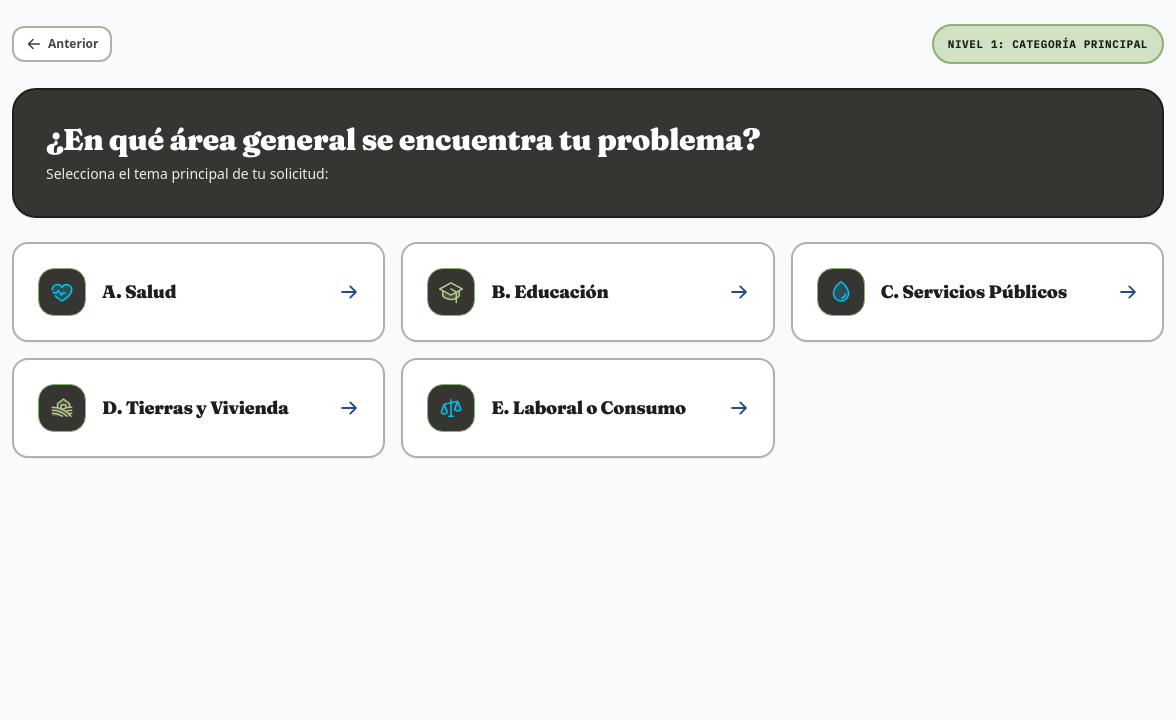
Test: WizardForm Feature & Acceptance Criteria (R4) › TC-T2-F19-03: supports "Otra" option handoff to Human Legal Advisor
Step 1. Click the button "D. Tierras y Vivienda" → coordinates (199, 408), box x1=12 y1=358 x2=385 y2=458
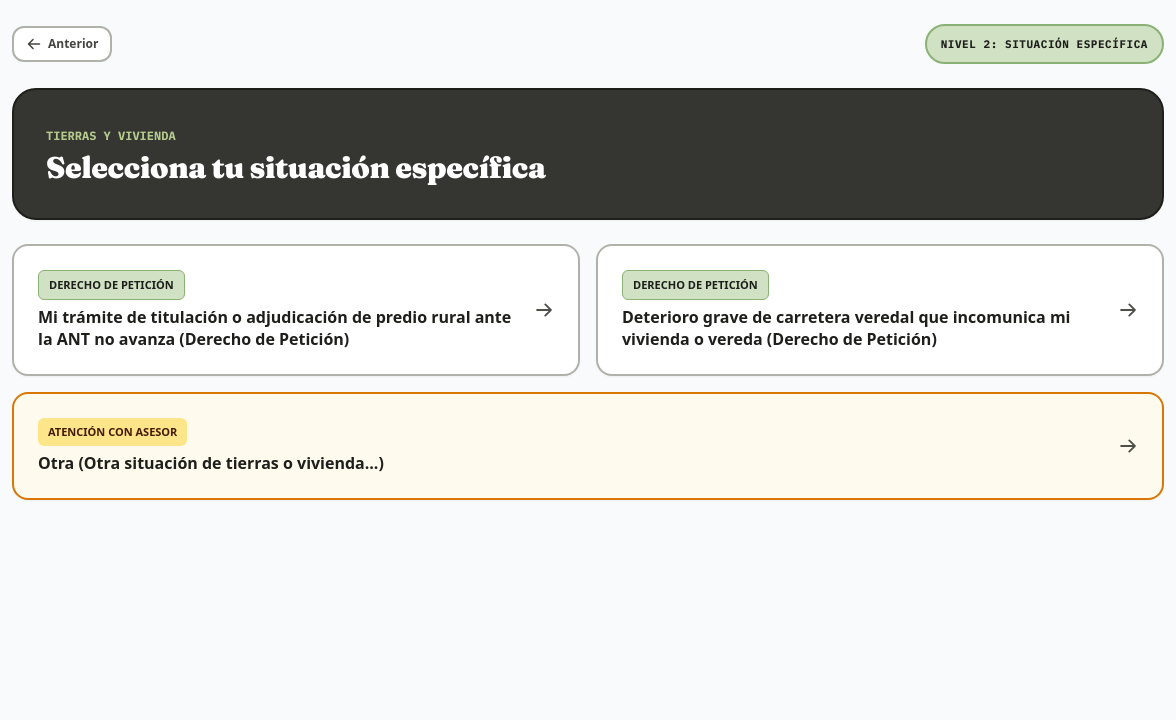
Step 2. Click the button "Otra situación de tierras" → coordinates (113, 432), box x1=12 y1=392 x2=1164 y2=500
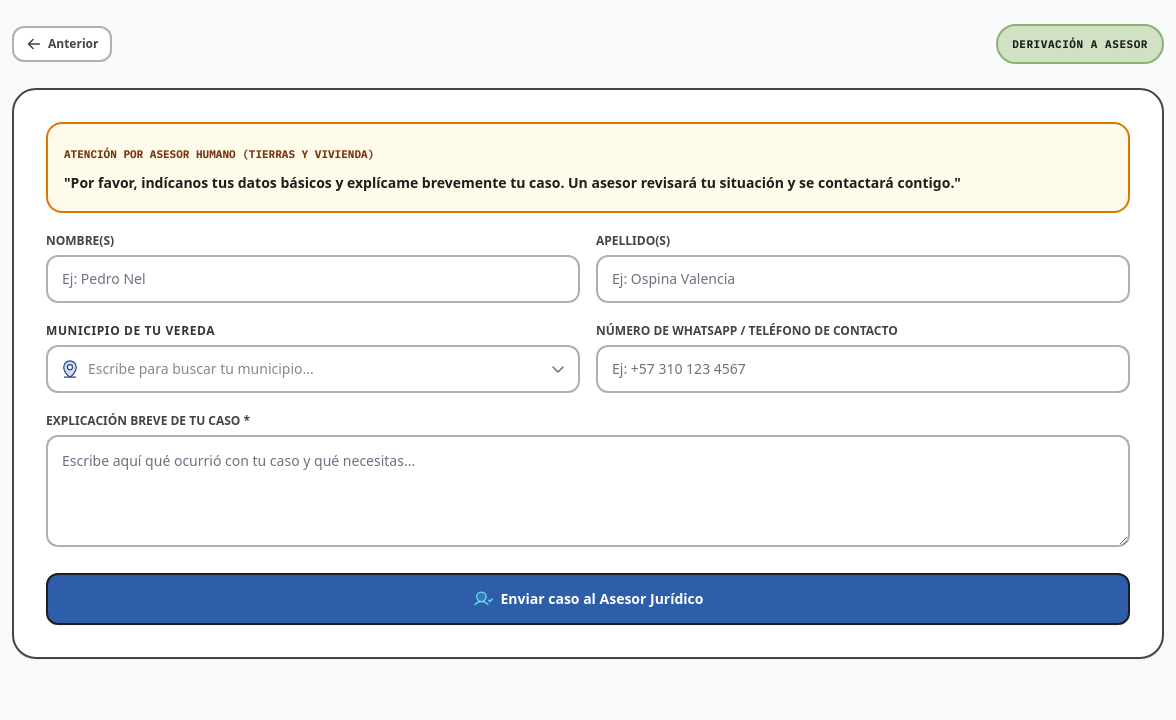
Result: the text "Derivación a Asesor" is shown at x1=996 y1=24 x2=1164 y2=64
Step 3. Type "Pedro" into the field labelled "Nombre(s)" → coordinates (313, 279), box x1=46 y1=255 x2=580 y2=303
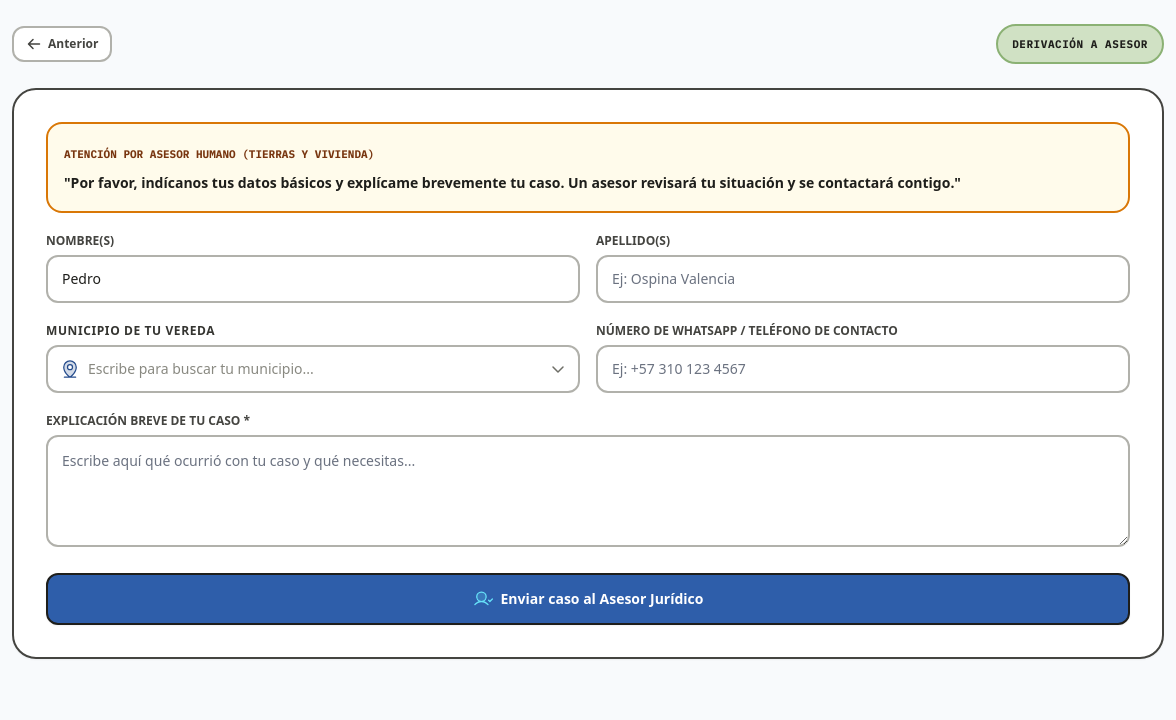
Step 4. Type "Nel Ospina" into the field labelled "Apellido(s)" → coordinates (863, 279), box x1=596 y1=255 x2=1130 y2=303
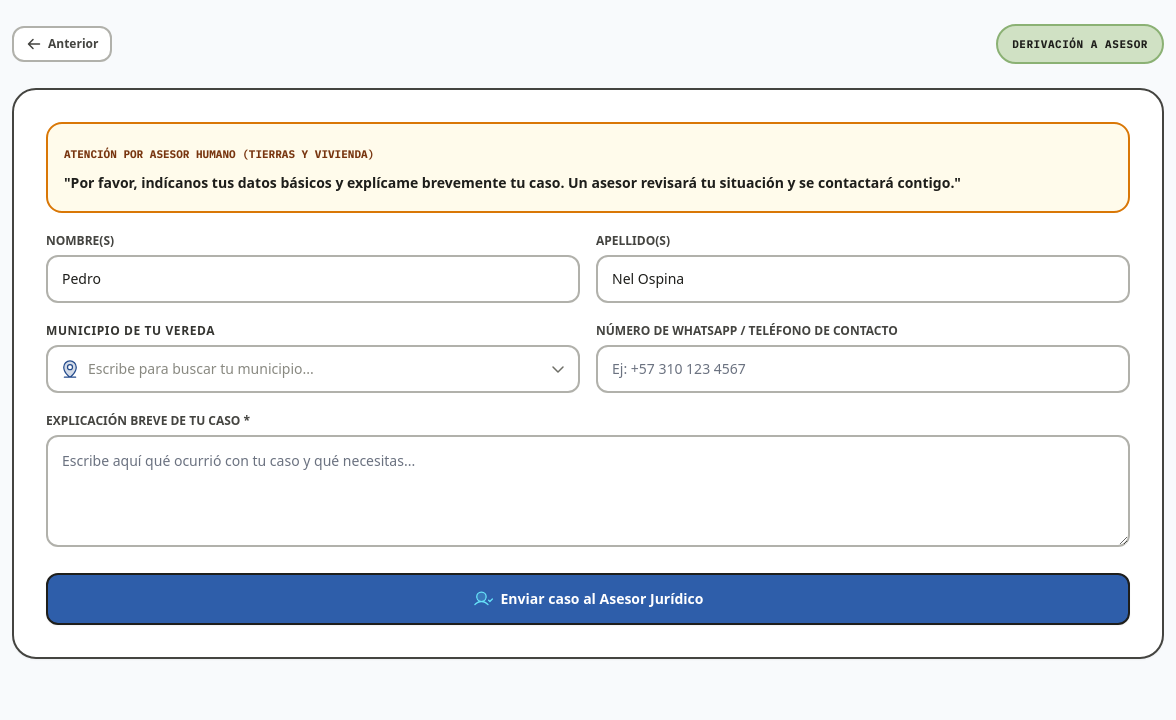
Step 5. Type "Tengo un problema de servidumbre de tránsito en mi parcela rural." into the text box labelled "Explicación breve de tu caso *" → coordinates (588, 491), box x1=46 y1=435 x2=1130 y2=547
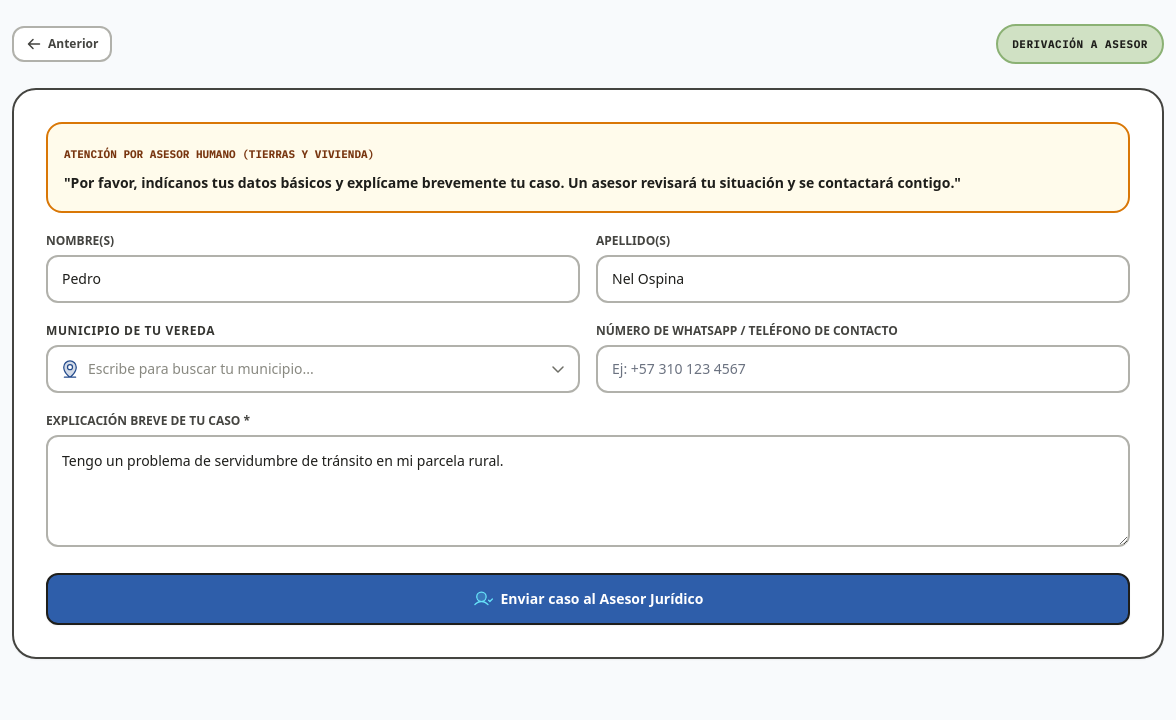
Step 6. Click the button "Enviar caso al Asesor Jurídico" → coordinates (588, 599), box x1=46 y1=573 x2=1130 y2=625
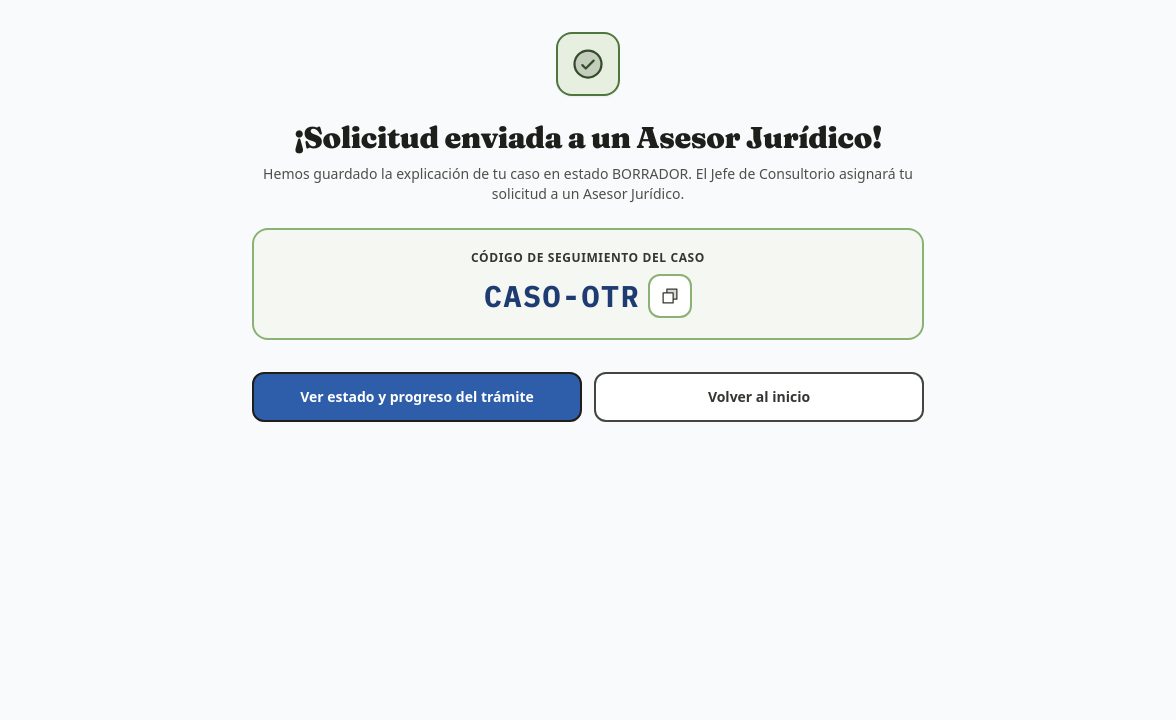
Result: the heading "¡Solicitud enviada a un Asesor Jurídico!" is shown at x1=252 y1=120 x2=924 y2=156
Result: the text "CASO-OTR" is shown at x1=484 y1=278 x2=640 y2=314
